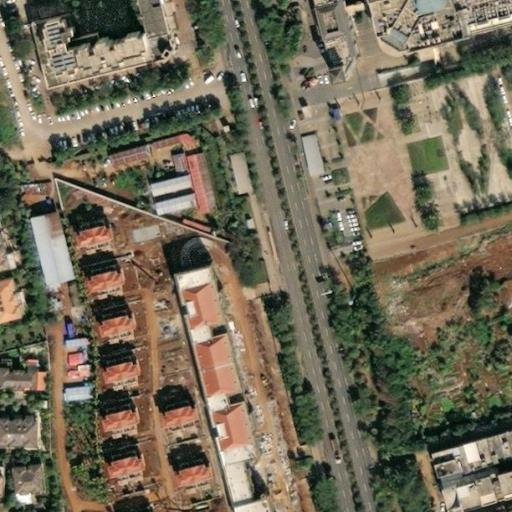building: (47, 17, 145, 62), (185, 311, 236, 389), (212, 426, 262, 500), (170, 245, 219, 319), (21, 206, 66, 279), (202, 381, 246, 434), (178, 154, 208, 216), (46, 272, 84, 314), (0, 410, 37, 447), (224, 145, 252, 193), (3, 456, 37, 489), (16, 176, 54, 205), (142, 171, 184, 194), (146, 191, 189, 212), (100, 142, 142, 163), (68, 211, 106, 234), (78, 256, 116, 279), (93, 347, 131, 370), (93, 396, 131, 419), (40, 6, 70, 35), (293, 137, 314, 177), (89, 301, 127, 323), (98, 442, 136, 464), (152, 393, 190, 415), (166, 451, 204, 473), (424, 445, 452, 474), (228, 492, 266, 512), (449, 477, 474, 507), (0, 222, 15, 268), (468, 472, 489, 503), (492, 465, 512, 497), (434, 481, 455, 511), (495, 276, 512, 310), (455, 438, 474, 466), (466, 435, 485, 463), (477, 431, 496, 459), (482, 469, 499, 499), (444, 442, 462, 470), (496, 425, 512, 454), (55, 385, 82, 402), (488, 429, 503, 456), (163, 153, 181, 174), (145, 136, 171, 150), (117, 503, 150, 512), (290, 103, 303, 123), (59, 354, 78, 367), (57, 338, 79, 347), (174, 135, 189, 148), (29, 362, 38, 383), (501, 328, 512, 344), (18, 355, 30, 362), (322, 109, 330, 118), (169, 135, 176, 144)
